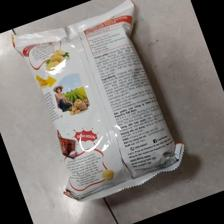Lays: (11, 1, 190, 204)
